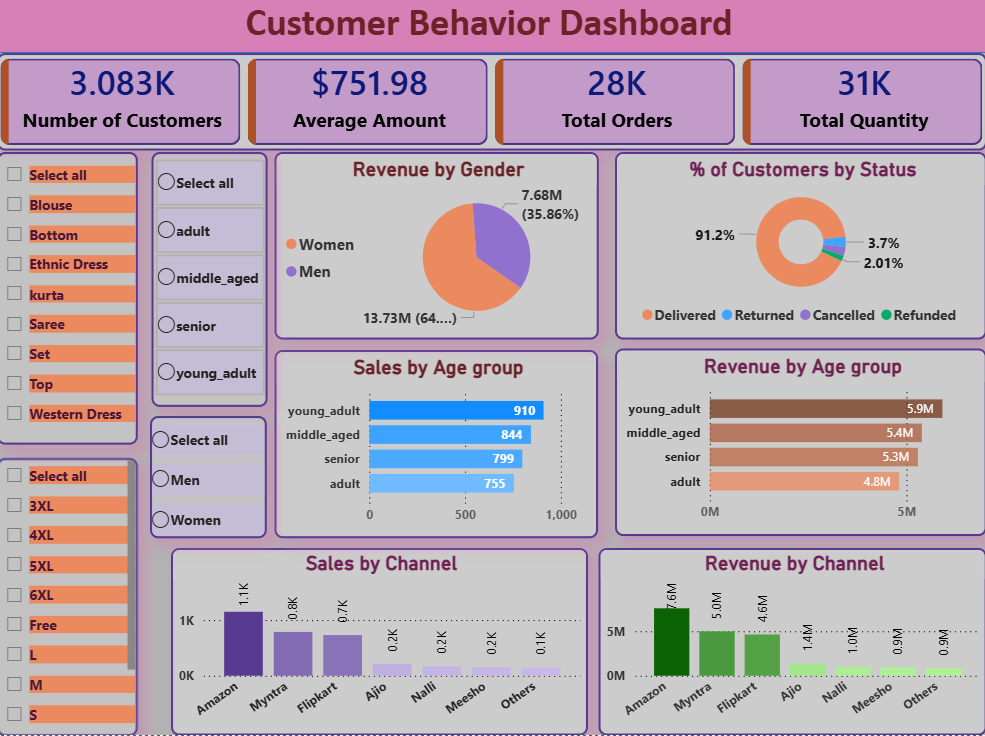

What the dashboard file says about the page in this screenshot:
{"tool":"powerbi","page":{"name":"Page 1","canvas":[960,720],"ordinal":0},"visuals":[{"type":"cardVisual","fields":{"Data":["vrindastore clothes.number of customers","vrindastore clothes.Average Amount","vrindastore clothes.total orders","vrindastore clothes.total quantity"]},"box":[0,58.2,960.7,94.6],"z":0},{"type":"donutChart","title":"% of Customers by Status","fields":{"Category":["vrindastore clothes.Status"],"Y":["Count(vrindastore clothes.Cust_ID)"]},"box":[599.7,154.3,361,181.9],"z":1000},{"type":"slicer","fields":{"Values":["vrindastore clothes.Size"]},"box":[0,450.8,136.5,269.8],"z":2000},{"type":"slicer","fields":{"Values":["vrindastore clothes.Category"]},"box":[0,154,136.5,284.1],"z":3000},{"type":"clusteredBarChart","title":"Revenue by Age group","fields":{"Category":["vrindastore clothes.age_group"],"Y":["vrindastore clothes.REVENUE"]},"box":[599.7,345,361,181.9],"z":4000},{"type":"lineStackedColumnComboChart","title":"Sales by Channel","fields":{"Category":["vrindastore clothes.Channel"],"Y":["Count(vrindastore clothes.Cust_ID)"]},"box":[168.8,538.6,404.6,181.9],"z":5000},{"type":"clusteredColumnChart","title":"Revenue  by Channel","fields":{"Category":["vrindastore clothes.Channel"],"Y":["vrindastore clothes.REVENUE"]},"box":[583.7,538.6,377,181.9],"z":6000},{"type":"clusteredBarChart","title":"Sales by Age group","fields":{"Category":["vrindastore clothes.age_group"],"Y":["Count(vrindastore clothes.Cust_ID)"]},"box":[269.8,346,314.3,182.5],"z":7000},{"type":"shape","box":[0,0,960.7,58.2],"z":8000},{"type":"textbox","box":[11.6,0,931.6,58.2],"z":9000},{"type":"pieChart","title":"Revenue by Gender ","fields":{"Category":["vrindastore clothes.Gender"],"Y":["vrindastore clothes.REVENUE"]},"box":[269.3,154.3,314.4,181.9],"z":10000},{"type":"listSlicer","fields":{"Values":["vrindastore clothes.age_group"]},"box":[149.2,154,112.7,247.6],"z":11000},{"type":"listSlicer","fields":{"Values":["vrindastore clothes.Gender"]},"box":[149,411.1,113.2,118.9],"z":12000}]}

Visuals, with their boxes in screenshot pixels (x1, y1, x2, y2), scaled from the page's 960x720 canvas onto the 985x736 screenshot:
cardVisual - vrindastore clothes.number of customers x vrindastore clothes.Average Amount: [left=0, top=59, right=984, bottom=156]
"% of Customers by Status" donutChart: [left=615, top=158, right=984, bottom=344]
slicer - vrindastore clothes.Size: [left=0, top=461, right=140, bottom=735]
slicer - vrindastore clothes.Category: [left=0, top=157, right=140, bottom=448]
"Revenue by Age group" clusteredBarChart: [left=615, top=353, right=984, bottom=539]
"Sales by Channel" lineStackedColumnComboChart: [left=173, top=551, right=588, bottom=735]
"Revenue  by Channel" clusteredColumnChart: [left=599, top=551, right=984, bottom=735]
"Sales by Age group" clusteredBarChart: [left=277, top=354, right=599, bottom=540]
shape: [left=0, top=0, right=984, bottom=59]
textbox: [left=12, top=0, right=968, bottom=59]
"Revenue by Gender " pieChart: [left=276, top=158, right=599, bottom=344]
listSlicer - vrindastore clothes.age_group: [left=153, top=157, right=269, bottom=411]
listSlicer - vrindastore clothes.Gender: [left=153, top=420, right=269, bottom=542]
